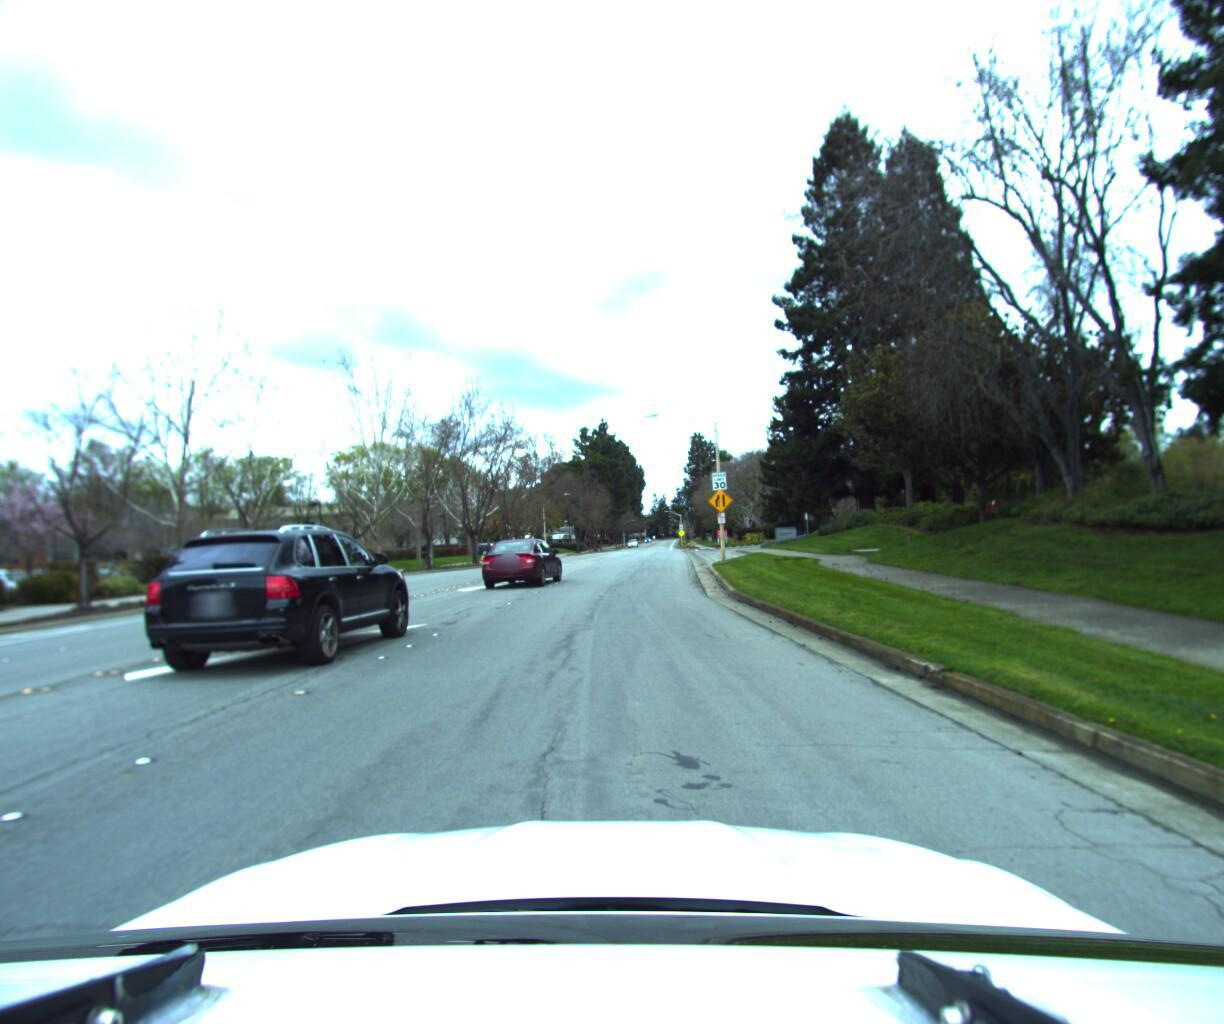car: (134, 523, 422, 680), (478, 533, 564, 588)
